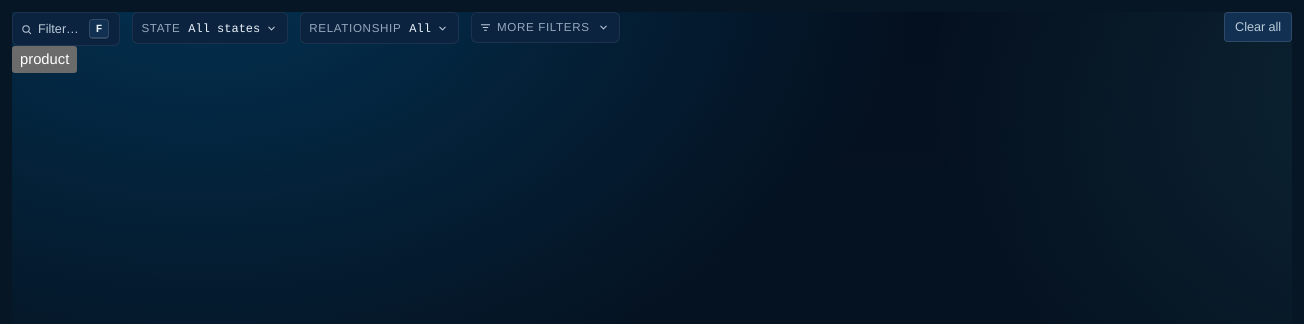
Lead Queue facet counts › never counts a borrower list: the menu opens with labels only and reads nothing
Click the dropdown labelled "STATE All states".
click(210, 28)  # box [132, 12, 288, 44]
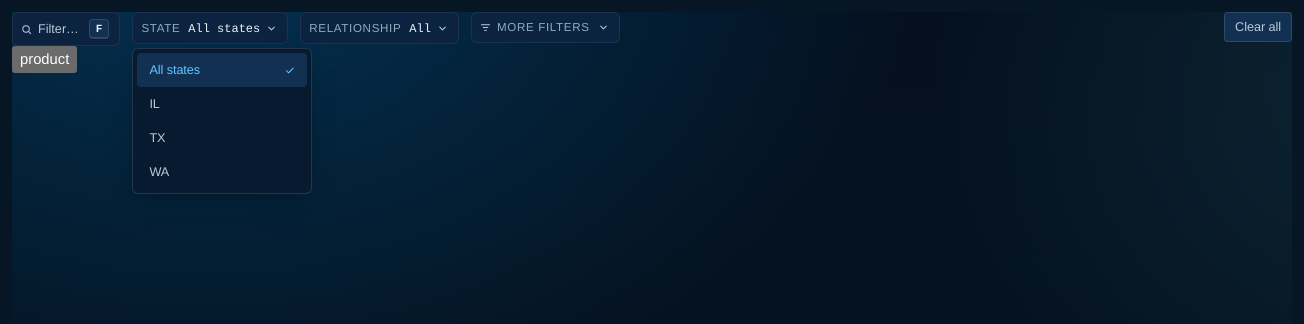
Expected: the list is shown, [132, 48, 312, 194]
